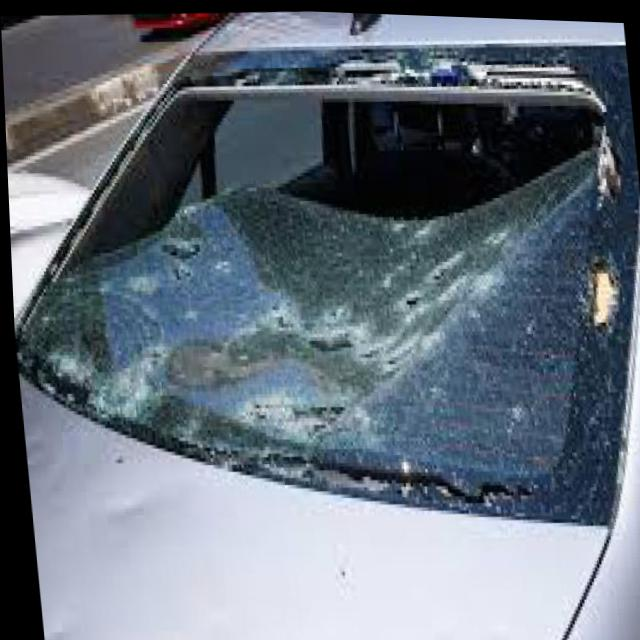Glass_Break: (2, 62, 631, 440)
